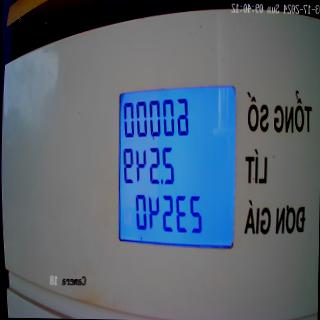screen: (115, 80, 239, 251)
